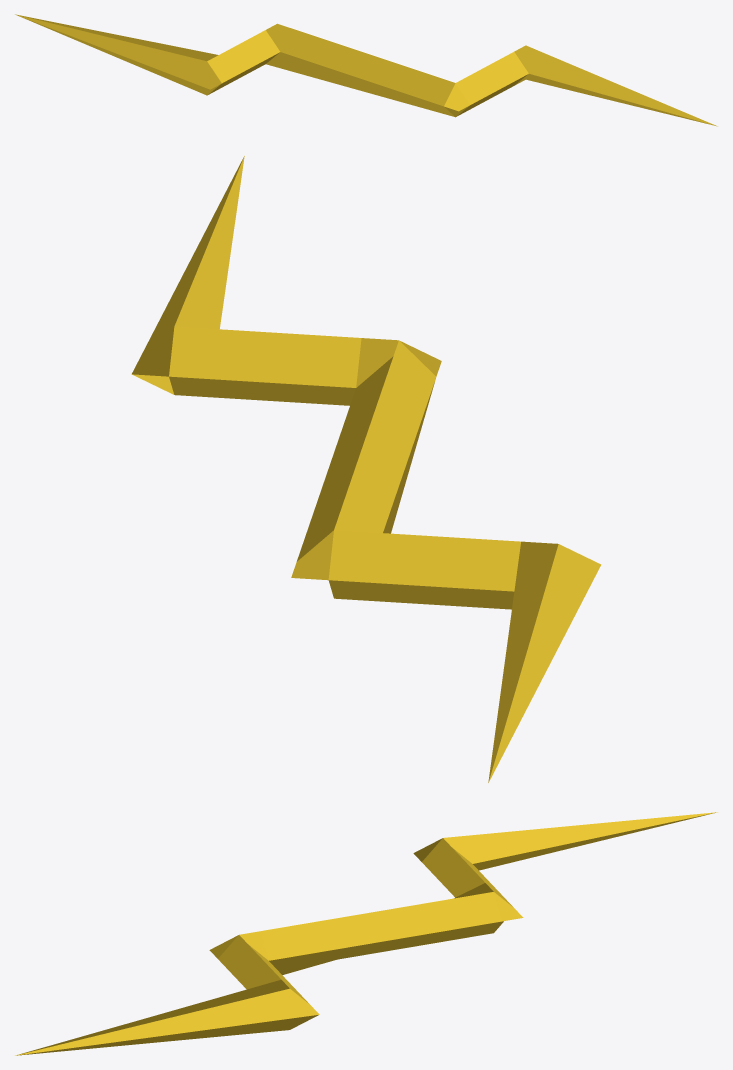
File: Thunder02.fbx
The picture shows the model from 3 angles, top to bottom: view 1: azimuth 30°, elevation 25°; view 2: azimuth 150°, elevation 25°; view 3: azimuth 270°, elevation 25°; orthographic projection. The views are drawn at different scales.
Parts seen in each view (by area): view 1: Cube; view 2: Cube; view 3: Cube.
Boxes of the visible parts, left/top/right/bottom form: Cube: left=15, top=14, right=717, bottom=126; Cube: left=131, top=156, right=601, bottom=782; Cube: left=15, top=812, right=716, bottom=1055.
Size of the model in its own units: 2524 by 200 by 3084.
